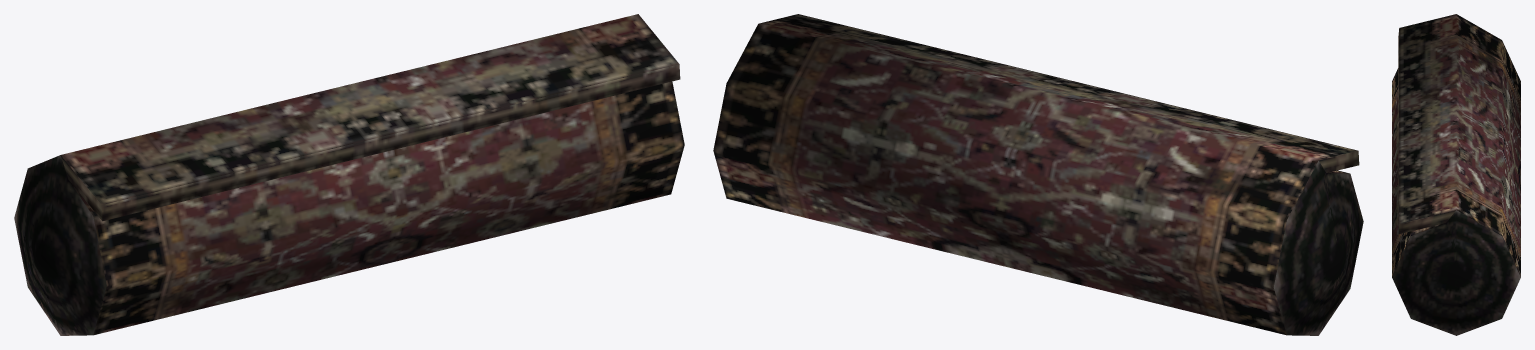
The model's file is rolled_up_carpet_02.dae.
The picture shows the model from 3 angles, left to right: view 1: azimuth 30°, elevation 25°; view 2: azimuth 150°, elevation 25°; view 3: azimuth 270°, elevation 25°; orthographic projection. The views are drawn at different scales.
Visible parts, largest first — view 1: pCylinder1; view 2: pCylinder1; view 3: pCylinder1.
Boxes of the visible parts, <box> form: pCylinder1: <box>14,14,684,335</box>; pCylinder1: <box>713,14,1363,335</box>; pCylinder1: <box>1392,14,1520,335</box>.
Bounding box in the file's own units: 1.58 × 0.456 × 0.4235.
